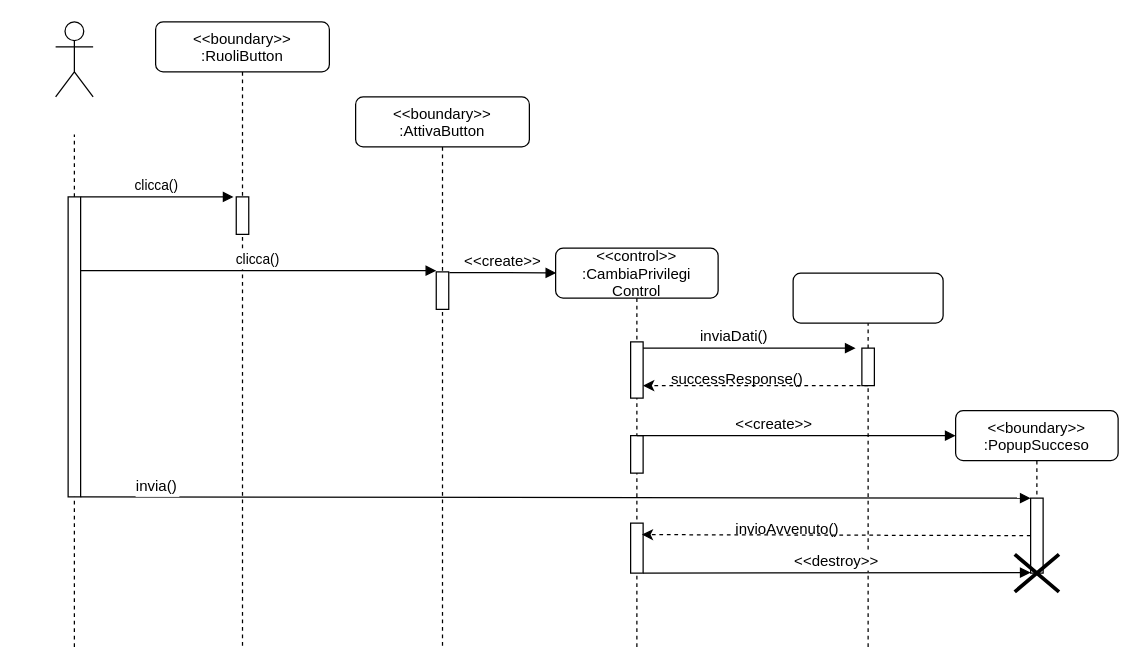
This 1140x670 diagram has some shape labels left out. Each missing label, with the centre of its shape:
:Amministratore: (73,59)
<<entity>> :Blockchain: (867,297)
